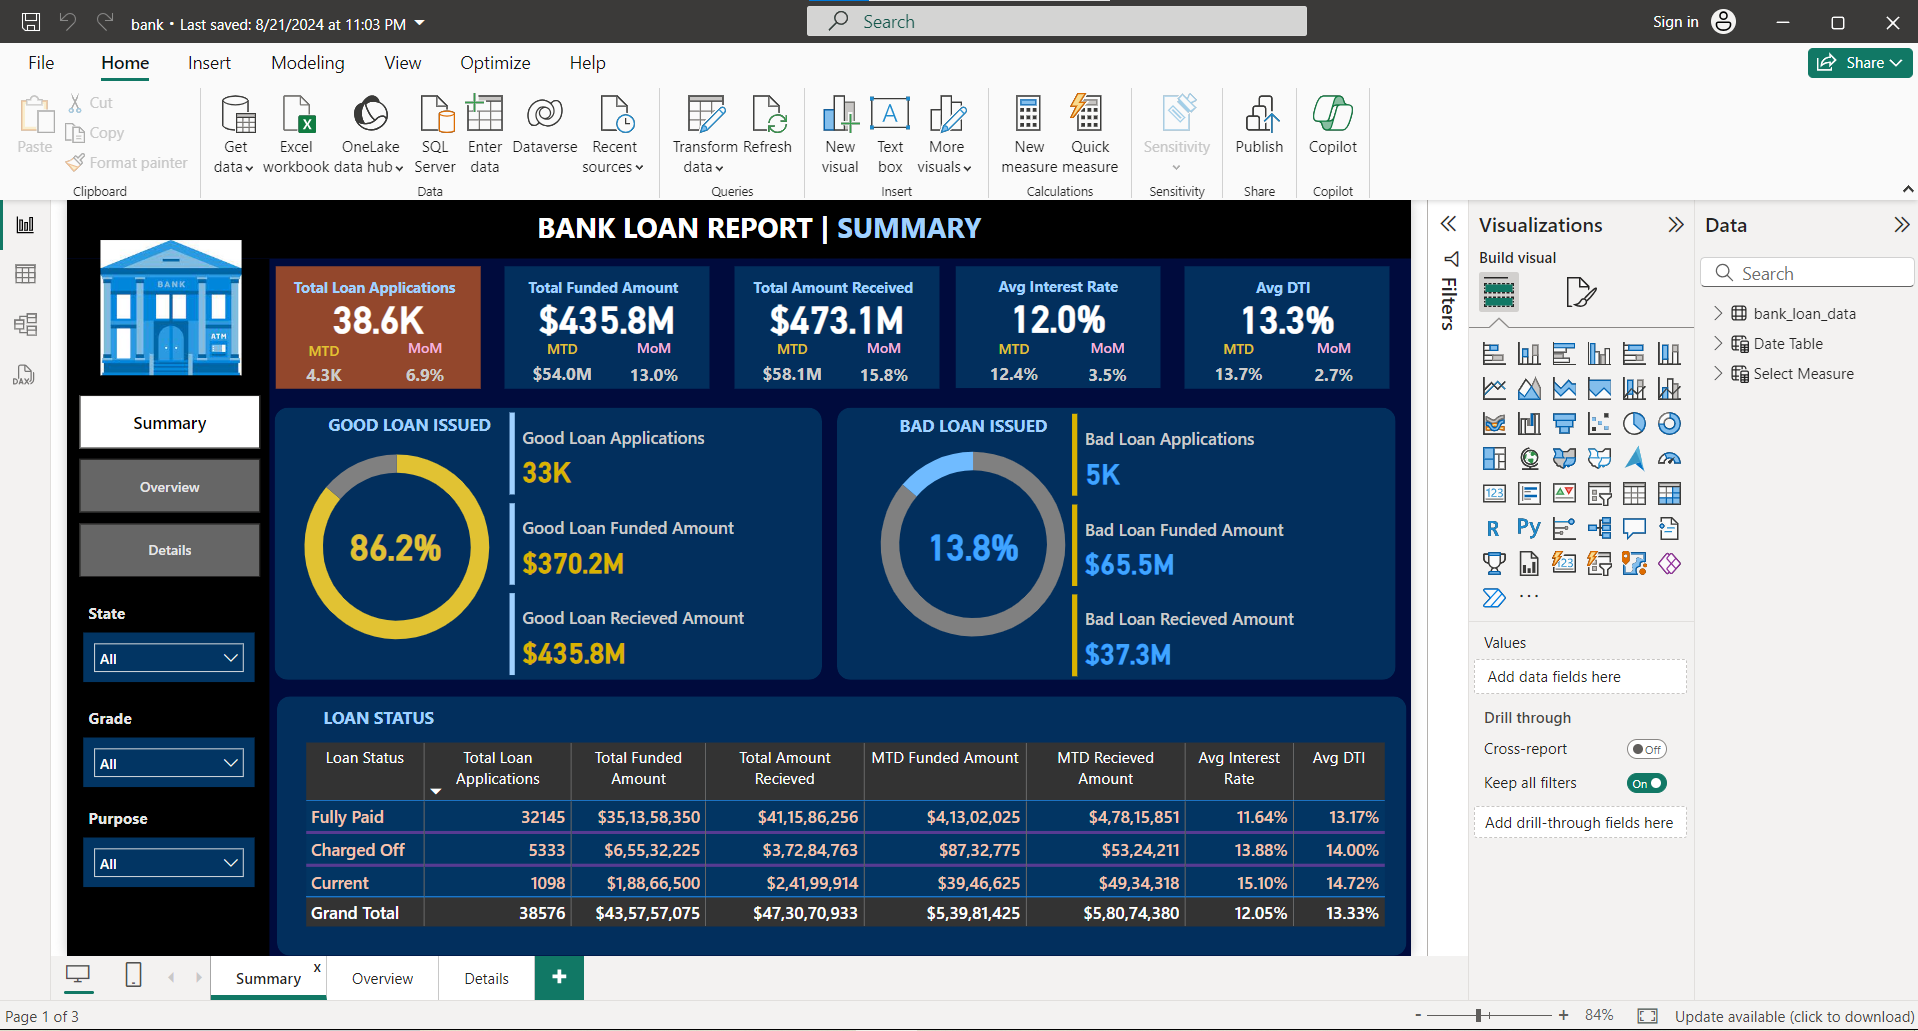

The page's visual inventory and layout, read from the dashboard file:
{"tool":"powerbi","page":{"name":"Summary","canvas":[1280,720],"ordinal":0},"visuals":[{"type":"shape","box":[0,55.7,192.9,664.3],"z":0},{"type":"shape","box":[846.1,63.1,195,116],"z":0,"group":"g11"},{"type":"card","fields":{"Values":["bank_loan_data.Total Loan Applications"]},"box":[209.6,69.1,173.8,84.5],"z":0,"group":"g1"},{"type":"card","fields":{"Values":["bank_loan_data.Total Funded Amount"]},"box":[427.7,69.1,173.8,84.5],"z":0,"group":"g2"},{"type":"card","fields":{"Values":["bank_loan_data.Total Amount Recieved"]},"box":[645.9,69.1,173.8,84.5],"z":0,"group":"g3"},{"type":"card","fields":{"Values":["bank_loan_data.Avg DTI"]},"box":[1075,69.1,173.8,84.5],"z":0,"group":"g4"},{"type":"shape","box":[0,0,1280,55.7],"z":1000},{"type":"card","fields":{"Values":["bank_loan_data.Avg Interest Rate"]},"box":[862.8,65.5,161.9,89.5],"z":1000,"group":"g11"},{"type":"textbox","box":[191.7,69.1,202.4,32.1],"z":1000,"group":"g1"},{"type":"textbox","box":[409.8,69.1,202.4,32.1],"z":1000,"group":"g2"},{"type":"textbox","box":[628,69.1,202.4,32.1],"z":1000,"group":"g3"},{"type":"textbox","box":[1057.1,69.1,202.4,32.1],"z":1000,"group":"g4"},{"type":"textbox","box":[225,197.6,202.4,32.1],"z":1000,"group":"g5"},{"type":"textbox","box":[761.9,198.8,202.4,32.1],"z":1000,"group":"g13"},{"type":"textbox","box":[200,476.2,193.8,35],"z":1000,"group":"g6"},{"type":"card","title":"MTD","fields":{"Values":["bank_loan_data.MTD Funded Amount"]},"box":[438.5,132.7,67.2,53.5],"z":2000,"group":"g2"},{"type":"card","title":"MTD","fields":{"Values":["bank_loan_data.MTD Recieved Amount"]},"box":[656.7,132.7,67.2,53.5],"z":2000,"group":"g3"},{"type":"card","title":"MTD","fields":{"Values":["bank_loan_data.MTD Avg DTI"]},"box":[1082.4,132.7,67.2,53.5],"z":2000,"group":"g4"},{"type":"card","title":"MTD","fields":{"Values":["bank_loan_data.MTD Loan Applications"]},"box":[221.5,134.6,46.4,51.2],"z":2000,"group":"g1"},{"type":"shape","box":[733.3,197.6,532.1,259.5],"z":2000},{"type":"shape","box":[198.8,63.1,195.2,116.7],"z":3000,"group":"g7"},{"type":"shape","box":[416.9,63.1,195.2,116.7],"z":3000,"group":"g8"},{"type":"shape","box":[635.1,63.1,195.2,116.7],"z":3000,"group":"g9"},{"type":"shape","box":[1064.2,63.1,195.2,116.7],"z":3000,"group":"g10"},{"type":"textbox","box":[867.5,67.8,152.4,31.8],"z":3000,"group":"g11"},{"type":"card","title":"MoM","fields":{"Values":["bank_loan_data.MoM Loan Applications"]},"box":[307.2,131,67.9,58.3],"z":3000,"group":"g1"},{"type":"card","title":"MoM","fields":{"Values":["bank_loan_data.MoM Total Funded Amount"]},"box":[525.3,131,67.9,58.3],"z":3000,"group":"g2"},{"type":"card","title":"MoM","fields":{"Values":["bank_loan_data.MoM Total Recieced Amount"]},"box":[743.5,131,67.9,58.3],"z":3000,"group":"g3"},{"type":"card","title":"MoM","fields":{"Values":["bank_loan_data.MoM DTI"]},"box":[1172.6,131,67.9,58.3],"z":3000,"group":"g4"},{"type":"textbox","box":[15.7,378.6,57.1,32.9],"z":3000},{"type":"textbox","box":[442.9,2.4,552.4,52.4],"z":4000},{"type":"group","id":"g1","title":"Group 1","box":[191.7,69.1,202.4,120.2],"z":4004,"group":"g7"},{"type":"group","id":"g2","title":"Group 1","box":[409.8,69.1,202.4,120.2],"z":4004,"group":"g8"},{"type":"group","id":"g3","title":"Group 1","box":[628,69.1,202.4,120.2],"z":4004,"group":"g9"},{"type":"group","id":"g4","title":"Group 1","box":[1057.1,69.1,202.4,120.2],"z":4004,"group":"g10"},{"type":"group","id":"g5","title":"Group 1","box":[225,197.6,202.4,32.1],"z":4004,"group":"g12"},{"type":"group","id":"g6","title":"Group 1","box":[200,476.2,193.8,35],"z":4004,"group":"g14"},{"type":"group","id":"g7","title":"Group 2","box":[191.7,63.1,202.4,126.2],"z":5000},{"type":"card","title":"MTD","fields":{"Values":["bank_loan_data.MTD Interest Rate"]},"box":[867.5,132.6,67.9,53],"z":5000,"group":"g11"},{"type":"group","id":"g8","title":"Group 2","box":[409.8,63.1,202.4,126.2],"z":6000},{"type":"group","id":"g9","title":"Group 2","box":[628,63.1,202.4,126.2],"z":7000},{"type":"card","title":"MoM","fields":{"Values":["bank_loan_data.MoM Avg Interest Rate"]},"box":[956.8,131.4,67.9,57.7],"z":7000,"group":"g11"},{"type":"group","id":"g10","title":"Group 2","box":[1057.1,63.1,202.4,126.2],"z":8000},{"type":"shape","box":[197.6,197.6,521.4,259.5],"z":9000},{"type":"donutChart","fields":{"Category":["bank_loan_data.Good v Bad Loan"],"Y":["bank_loan_data.Total Loan Applications"]},"box":[188.8,215,250,230],"z":10000},{"type":"card","fields":{"Values":["Date Table.Good Loan %"]},"box":[226.2,285.7,173.8,84.5],"z":11000},{"type":"donutChart","fields":{"Category":["bank_loan_data.Good v Bad Loan"],"Y":["bank_loan_data.Total Loan Applications"]},"box":[738.1,213.1,250,229.8],"z":12000},{"type":"group","id":"g11","title":"Group 3","box":[846.1,63.1,195.2,126.2],"z":13000},{"type":"group","id":"g12","title":"Group 2","box":[225,197.6,202.4,32.1],"z":14000},{"type":"cardVisual","fields":{"Data":["Date Table.Good Loan Applications","Date Table.Good Loan Funded Amount","Date Table.Good Loan Recieved Amount"]},"box":[416.7,197.6,296.4,261.9],"z":15000},{"type":"group","id":"g13","title":"Group 1","box":[761.9,198.8,202.4,32.1],"z":16000},{"type":"card","fields":{"Values":["Date Table.Bad Loan %"]},"box":[776.2,285.7,173.8,84.5],"z":17000},{"type":"cardVisual","fields":{"Data":["Date Table.Bad Loan Applications","Date Table.Bad Loan Funded Amount","Date Table.Bad Loan Recieved Amount"]},"box":[952.4,198.8,296.4,261.9],"z":18000},{"type":"shape","box":[200,472.9,1075.7,247.1],"z":19000},{"type":"tableEx","fields":{"Values":["bank_loan_data.loan_status","bank_loan_data.Total Loan Applications","bank_loan_data.Total Funded Amount","bank_loan_data.Total Amount Recieved","bank_loan_data.MTD Funded Amount","bank_loan_data.MTD Recieved Amount","bank_loan_data.Avg Interest Rate","bank_loan_data.Avg DTI"]},"box":[221.4,511.4,1038.6,191.4],"z":20000},{"type":"group","id":"g14","title":"Group 2","box":[200,476.2,193.8,35],"z":21000},{"type":"slicer","fields":{"Values":["bank_loan_data.address_state"]},"box":[15.7,411.4,162.9,47.1],"z":22000},{"type":"slicer","fields":{"Values":["bank_loan_data.grade"]},"box":[15.7,511.4,162.9,47.1],"z":23000},{"type":"textbox","box":[15.7,478.6,70,32.9],"z":24000},{"type":"slicer","fields":{"Values":["bank_loan_data.purpose"]},"box":[15.7,607.1,162.9,47.1],"z":25000},{"type":"textbox","box":[15.7,574.3,81.4,32.9],"z":26000},{"type":"pageNavigator","box":[11.4,185.7,172.9,174.3],"z":26002},{"type":"image","box":[17.1,32.9,164.3,138.6],"z":26003}]}

Visuals, with their boxes on the page's 1280x720 design canvas (x1, y1, x2, y2). These are canvas units, not pixel positions in the 1918x1031 screenshot, which may show the page scaled, cropped or inside an application window:
shape: 0:56:193:720
shape: 846:63:1041:179
card - bank_loan_data.Total Loan Applications: 210:69:383:154
card - bank_loan_data.Total Funded Amount: 428:69:602:154
card - bank_loan_data.Total Amount Recieved: 646:69:820:154
card - bank_loan_data.Avg DTI: 1075:69:1249:154
shape: 0:0:1280:56
card - bank_loan_data.Avg Interest Rate: 863:66:1025:155
textbox: 192:69:394:101
textbox: 410:69:612:101
textbox: 628:69:830:101
textbox: 1057:69:1260:101
textbox: 225:198:427:230
textbox: 762:199:964:231
textbox: 200:476:394:511
"MTD" card: 438:133:506:186
"MTD" card: 657:133:724:186
"MTD" card: 1082:133:1150:186
"MTD" card: 222:135:268:186
shape: 733:198:1265:457
shape: 199:63:394:180
shape: 417:63:612:180
shape: 635:63:830:180
shape: 1064:63:1259:180
textbox: 868:68:1020:100
"MoM" card: 307:131:375:189
"MoM" card: 525:131:593:189
"MoM" card: 744:131:811:189
"MoM" card: 1173:131:1240:189
textbox: 16:379:73:412
textbox: 443:2:995:55
"Group 1" group: 192:69:394:189
"Group 1" group: 410:69:612:189
"Group 1" group: 628:69:830:189
"Group 1" group: 1057:69:1260:189
"Group 1" group: 225:198:427:230
"Group 1" group: 200:476:394:511
"Group 2" group: 192:63:394:189
"MTD" card: 868:133:935:186
"Group 2" group: 410:63:612:189
"Group 2" group: 628:63:830:189
"MoM" card: 957:131:1025:189
"Group 2" group: 1057:63:1260:189
shape: 198:198:719:457
donutChart - bank_loan_data.Good v Bad Loan x bank_loan_data.Total Loan Applications: 189:215:439:445
card - Date Table.Good Loan %: 226:286:400:370
donutChart - bank_loan_data.Good v Bad Loan x bank_loan_data.Total Loan Applications: 738:213:988:443
"Group 3" group: 846:63:1041:189
"Group 2" group: 225:198:427:230
cardVisual - Date Table.Good Loan Applications x Date Table.Good Loan Funded Amount: 417:198:713:460
"Group 1" group: 762:199:964:231
card - Date Table.Bad Loan %: 776:286:950:370
cardVisual - Date Table.Bad Loan Applications x Date Table.Bad Loan Funded Amount: 952:199:1249:461
shape: 200:473:1276:720
tableEx - bank_loan_data.loan_status x bank_loan_data.Total Loan Applications: 221:511:1260:703
"Group 2" group: 200:476:394:511
slicer - bank_loan_data.address_state: 16:411:179:458
slicer - bank_loan_data.grade: 16:511:179:558
textbox: 16:479:86:512
slicer - bank_loan_data.purpose: 16:607:179:654
textbox: 16:574:97:607
pageNavigator: 11:186:184:360
image: 17:33:181:172
